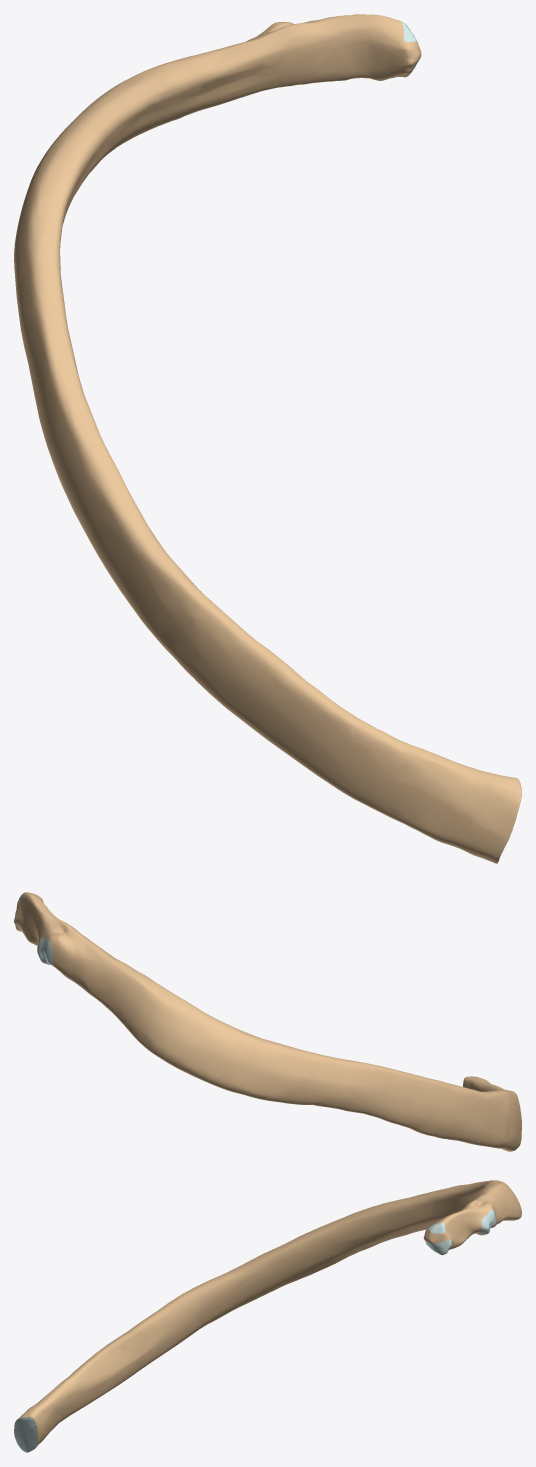
File: 5th_rib.r_Generated_Mesh_From_X3D.870.glb
The picture shows the model from 3 angles, top to bottom: view 1: azimuth 30°, elevation 25°; view 2: azimuth 150°, elevation 25°; view 3: azimuth 270°, elevation 25°; orthographic projection. The views are drawn at different scales.
Visible parts, largest first — view 1: 5th_rib.r_Generated_Mesh_From_X3D.870; view 2: 5th_rib.r_Generated_Mesh_From_X3D.870; view 3: 5th_rib.r_Generated_Mesh_From_X3D.870.
Boxes of the visible parts, <box> form: 5th_rib.r_Generated_Mesh_From_X3D.870: <box>14,14,521,863</box>; 5th_rib.r_Generated_Mesh_From_X3D.870: <box>14,892,521,1151</box>; 5th_rib.r_Generated_Mesh_From_X3D.870: <box>14,1180,521,1452</box>.
Size of the model in its own units: 0.1158 by 0.126 by 0.1893.
